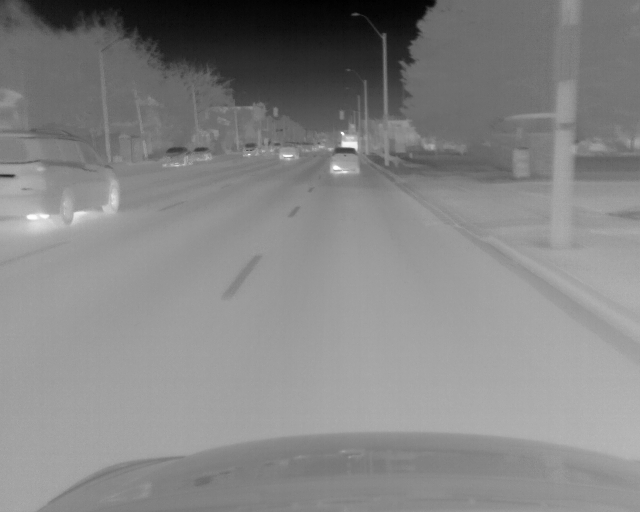car: (1, 130, 121, 226), (329, 146, 359, 175), (162, 147, 190, 168), (278, 141, 298, 160), (337, 130, 358, 148), (191, 146, 213, 162), (241, 142, 257, 157), (300, 141, 315, 154)
